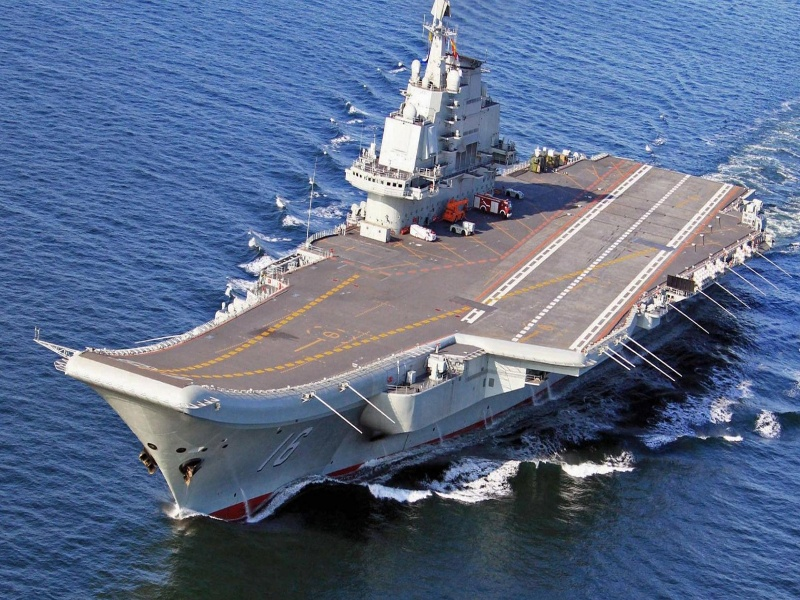carrier: (64, 41, 774, 525)
